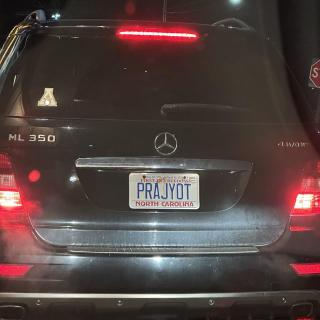license: (129, 173, 200, 210)
